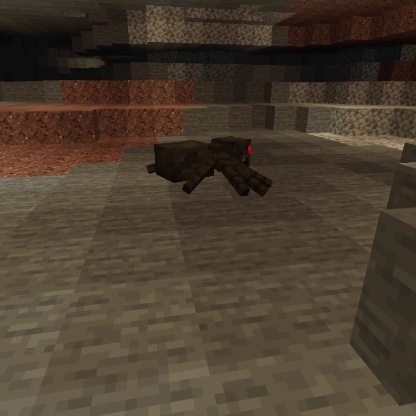spider: (144, 134, 276, 199)
